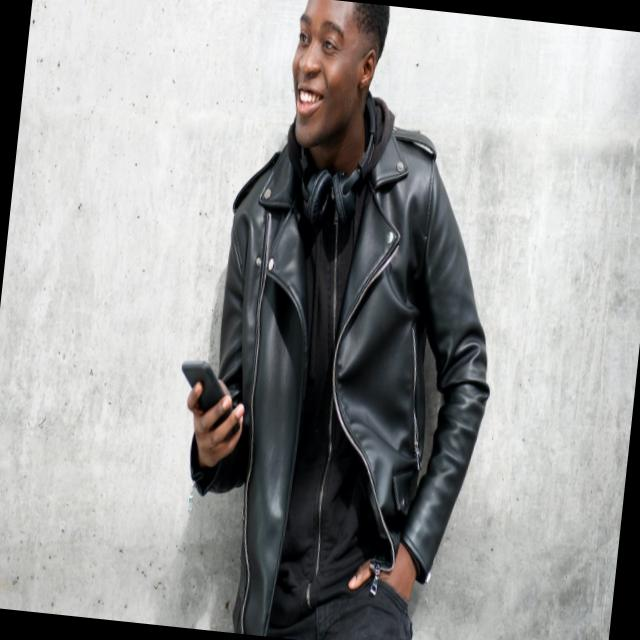Jacket: (162, 105, 518, 623)
